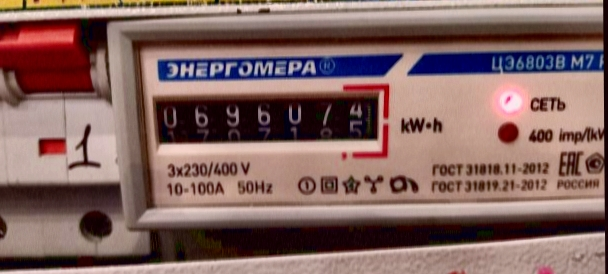0: (161, 102, 179, 128), (287, 99, 303, 125)
4: (349, 97, 363, 118)
5: (349, 119, 363, 138)
6: (192, 101, 210, 126), (256, 99, 272, 126)
7: (318, 99, 334, 125)
9: (224, 101, 241, 127)
screen: (147, 81, 394, 160)
